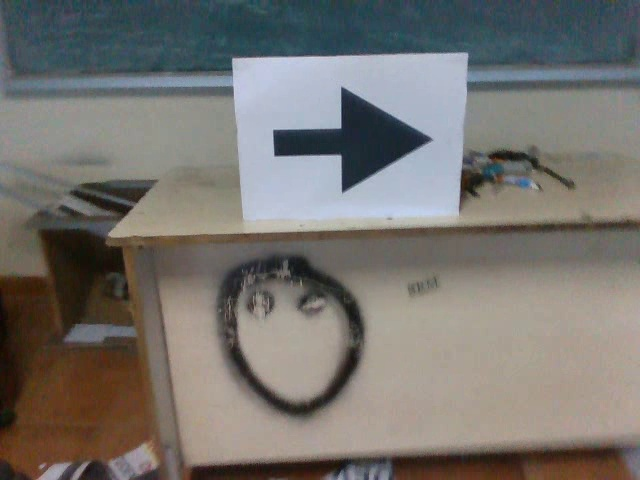Right: (254, 76, 442, 200)
